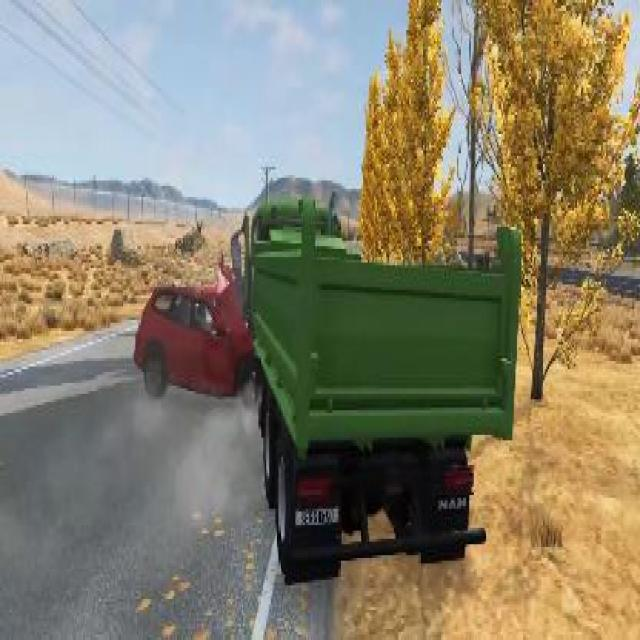accident: (131, 172, 523, 588)
